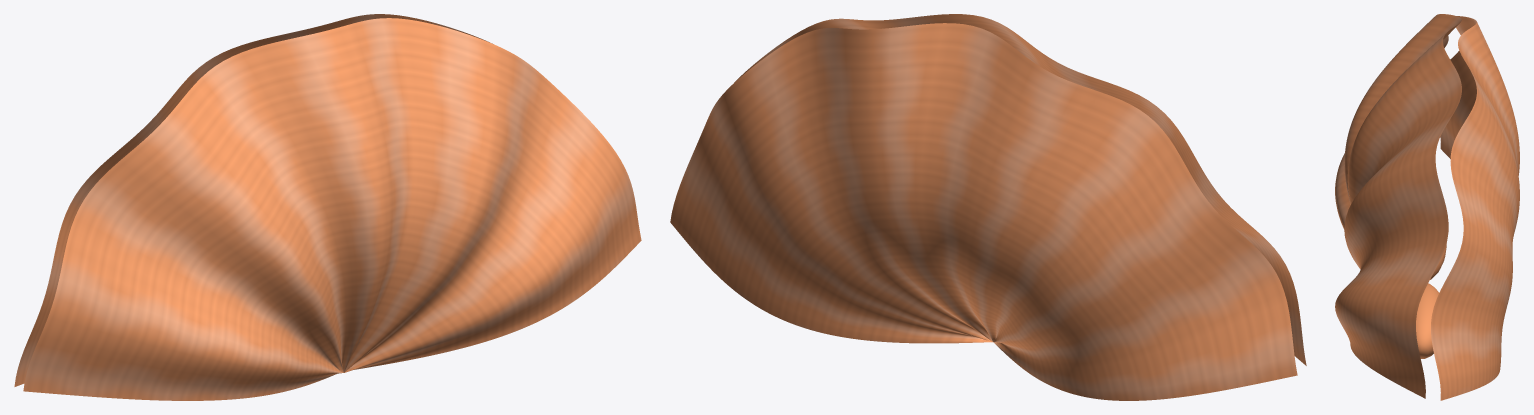
File: lion-paw.glb
3 views of the same model, side by side, from view 1: azimuth 30°, elevation 25°; view 2: azimuth 150°, elevation 25°; view 3: azimuth 270°, elevation 25° (orthographic). The views are drawn at different scales.
Parts seen in each view (by area): view 1: lion-paw; view 2: lion-paw; view 3: lion-paw.
Boxes of the visible parts, bbox=[...] form: lion-paw: bbox=[14, 14, 641, 400]; lion-paw: bbox=[670, 14, 1306, 400]; lion-paw: bbox=[1335, 14, 1519, 400].
Bounding box in the file's own units: 2.5 × 1.27 × 0.775.
